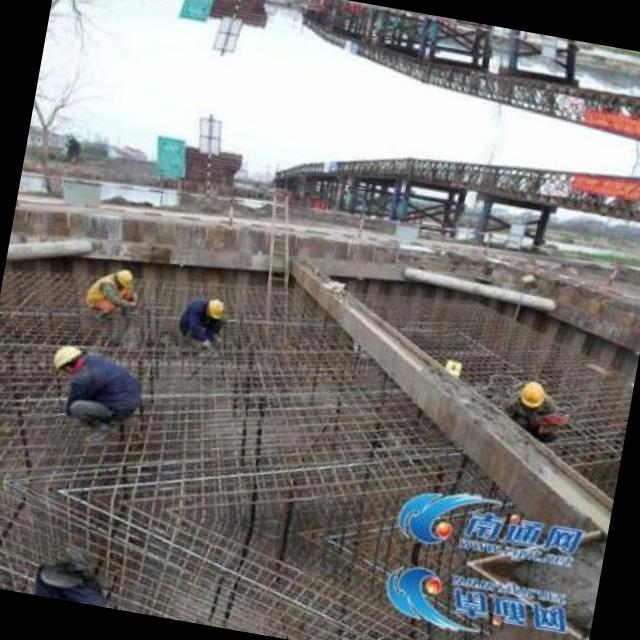helmet: (46, 338, 88, 376), (515, 375, 549, 409), (108, 260, 135, 290), (202, 295, 227, 320)
